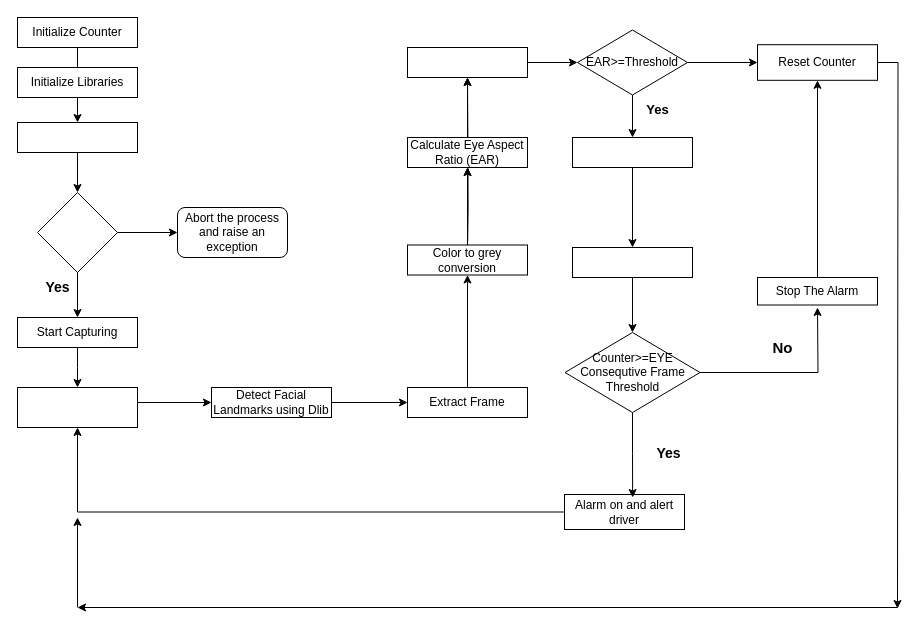
This 924x634 diagram has some shape labels left out. Each missing label, with the box of its shape:
Adjust frame using Gamma or Histogram Equalization: (16, 386, 138, 428)
Compare with Threshold: (406, 46, 528, 78)
Drowsiness Alert: (572, 136, 692, 168)
Increment Counter: (572, 246, 692, 278)
Initialize Camera: (16, 122, 138, 152)
Is camera Initialized?: (36, 192, 118, 272)
